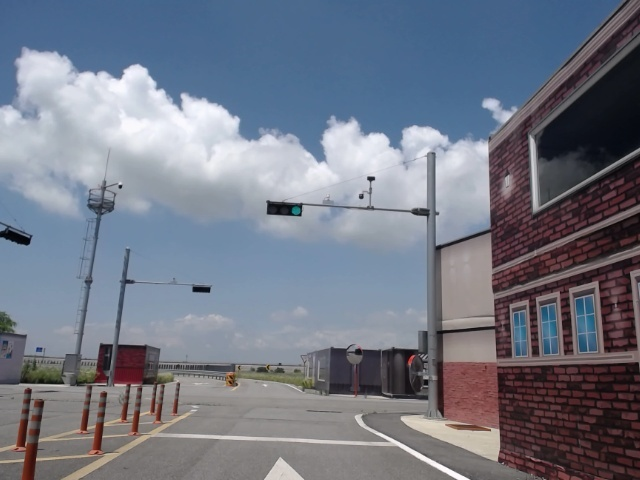green_3: (263, 200, 306, 217)
